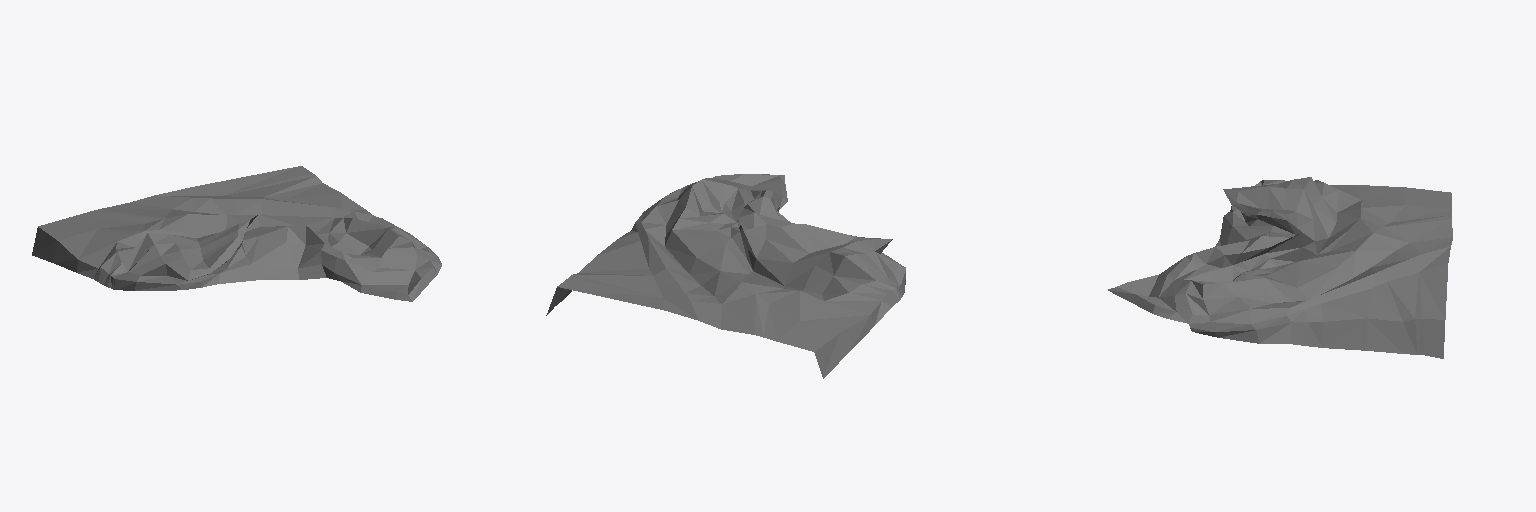
File: Sheets.obj
3 renders of one model, left to right at view 1: azimuth 30°, elevation 25°; view 2: azimuth 150°, elevation 25°; view 3: azimuth 270°, elevation 25°, orthographic.
Parts seen in each view (by area): view 1: polySurface3; view 2: polySurface3; view 3: polySurface3.
Boxes of the visible parts, <box> form: polySurface3: <box>32,166,441,301</box>; polySurface3: <box>546,174,905,378</box>; polySurface3: <box>1108,177,1452,358</box>.
Size of the model in its own units: 154 by 35.75 by 162.